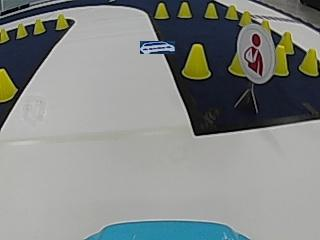cone: (182, 42, 211, 79), (0, 66, 16, 101), (300, 47, 318, 76), (273, 44, 289, 76), (227, 50, 245, 75), (154, 2, 169, 19), (55, 13, 68, 30), (178, 2, 192, 17), (205, 3, 218, 18), (33, 19, 46, 34), (238, 10, 251, 25), (16, 23, 28, 38), (226, 4, 238, 19), (0, 27, 10, 43)
patient: (241, 27, 275, 75)
